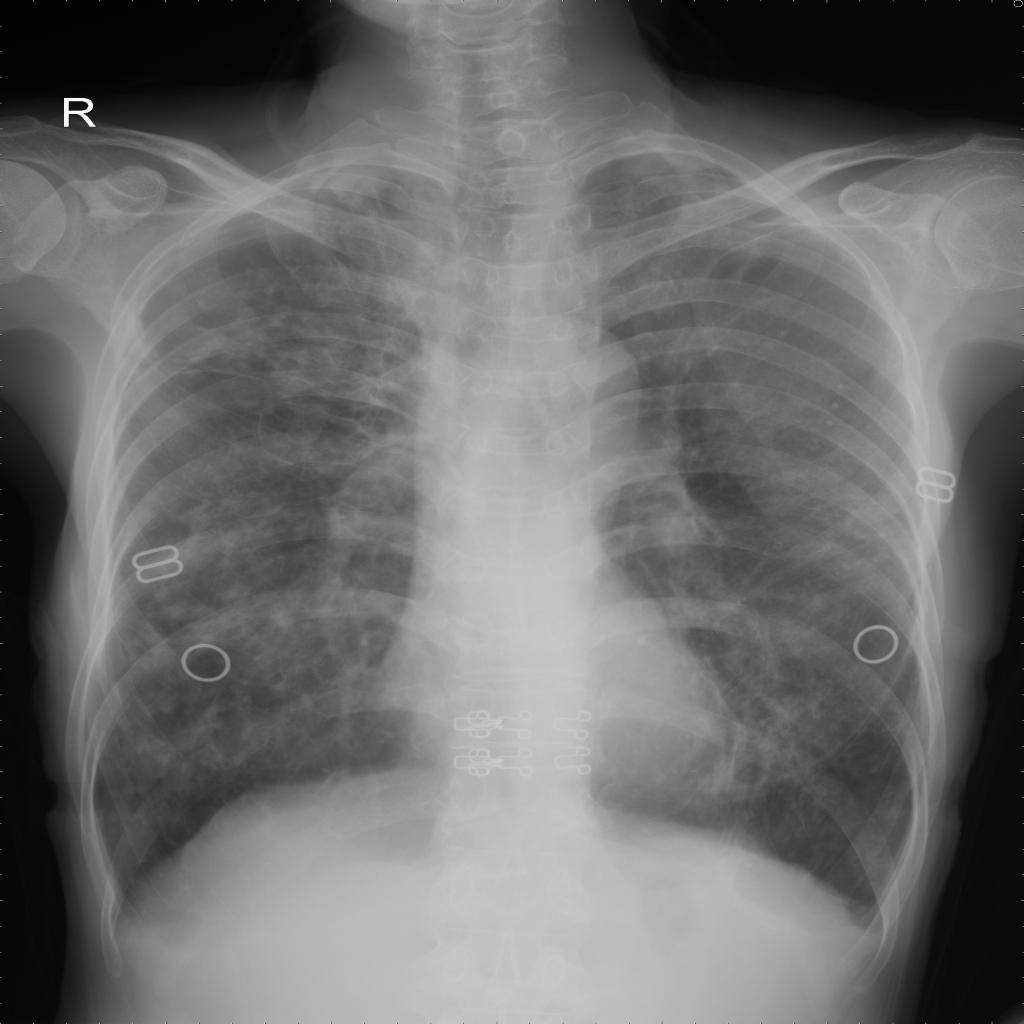Nodule: (737, 663, 916, 772), (834, 381, 846, 392), (826, 420, 832, 428), (832, 402, 840, 407)
